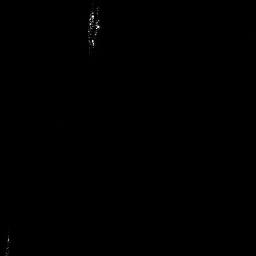ship: (86, 2, 100, 57)
